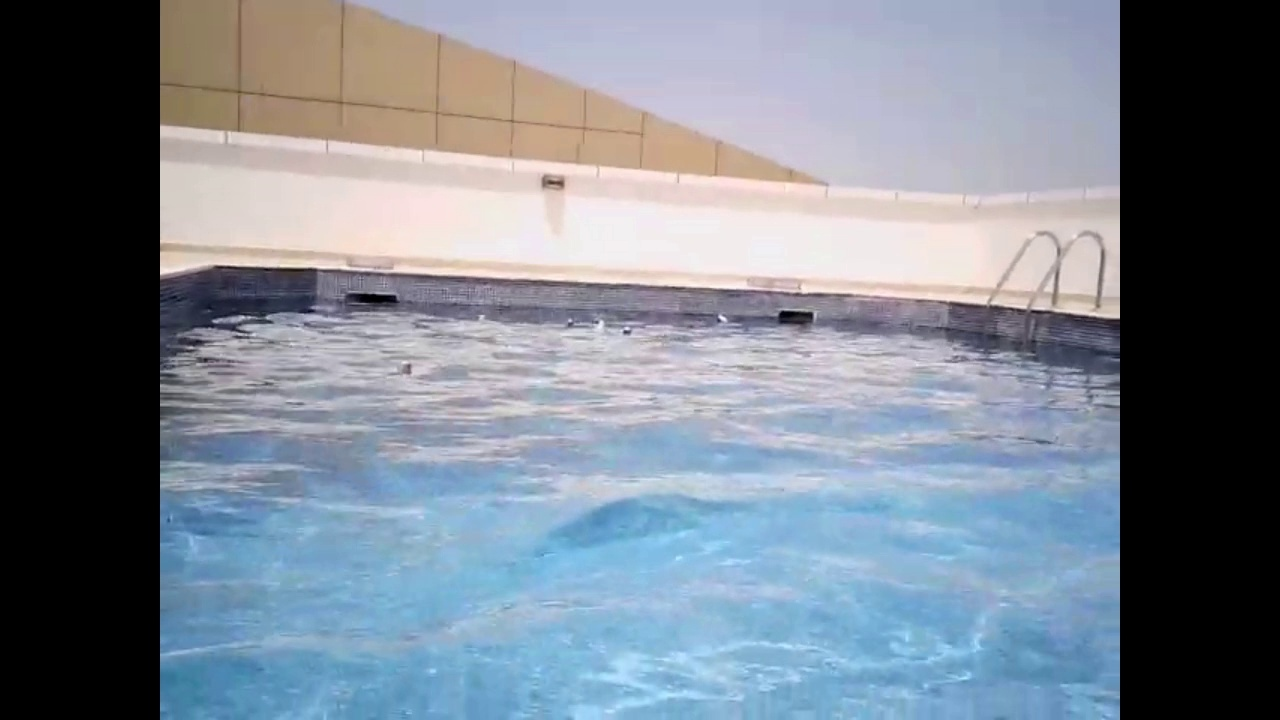debris: (394, 358, 415, 379), (588, 313, 608, 334), (619, 323, 637, 340), (560, 315, 578, 331), (713, 311, 729, 326)
